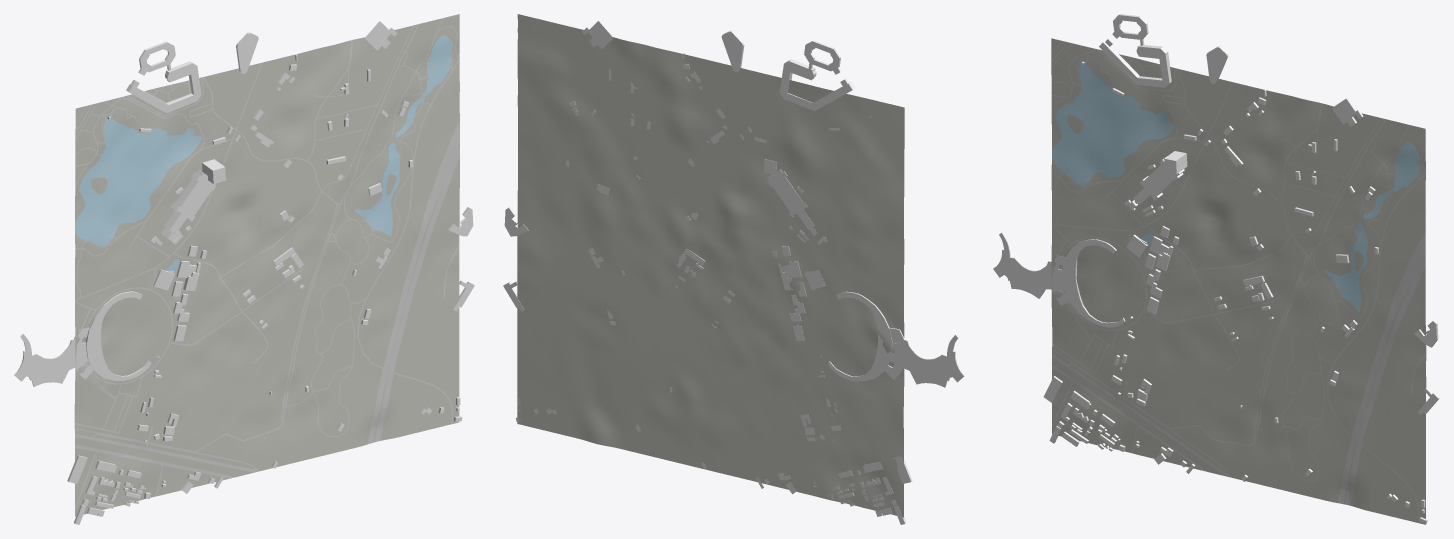
Rendered from corner-3d.glb.
3 views of the same model, side by side, from view 1: azimuth 30°, elevation 25°; view 2: azimuth 150°, elevation 25°; view 3: azimuth 330°, elevation 25° (orthographic). The views are drawn at different scales.
Parts seen in each view (by area): view 1: TPX_Ground, TPX_Buildings, TPX_RoadsOutlines, TPX_Waterways_1; view 2: TPX_Ground, TPX_Buildings; view 3: TPX_Ground, TPX_Buildings, TPX_RoadsOutlines, TPX_Waterways_1.
Part boxes in pixels (x1,y1,x2,y2): TPX_Ground: (74,14,459,516); TPX_Buildings: (14,21,474,524); TPX_RoadsOutlines: (74,18,459,509); TPX_Waterways_1: (75,35,452,273); TPX_Ground: (517,14,904,517); TPX_Buildings: (503,20,964,524); TPX_Ground: (1051,38,1426,524); TPX_Buildings: (993,14,1439,524); TPX_RoadsOutlines: (1051,41,1426,522); TPX_Waterways_1: (1052,58,1418,312).
Size of the model in its own units: 1143 by 1095 by 54.53.
